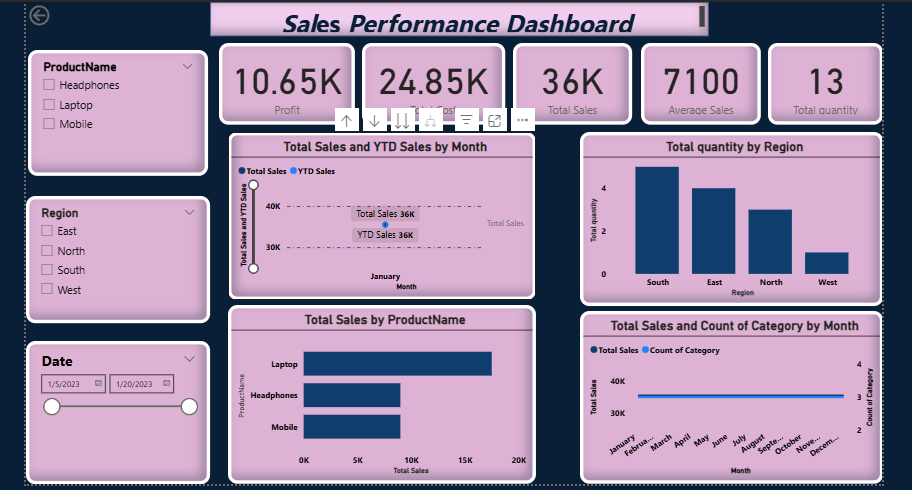

What the dashboard file says about the page in this screenshot:
{"tool":"powerbi","page":{"name":"Page 1","canvas":[1280,720],"ordinal":0},"visuals":[{"type":"card","fields":{"Values":["Sales-2.Total Sales"]},"box":[727.5,61.2,177.8,122.5],"z":0},{"type":"card","fields":{"Values":["Sales-2.Average Sales"]},"box":[918.7,61.2,179.3,122.5],"z":1000},{"type":"card","fields":{"Values":["Sales-2.Profit"]},"box":[288.3,61.2,203.2,122.5],"z":2000},{"type":"card","fields":{"Values":["Sales-2.Total Cost"]},"box":[501.9,61.2,213.6,122.5],"z":3000},{"type":"card","fields":{"Values":["Sales-2.Total quantity"]},"box":[1108.4,61.2,171.8,122.5],"z":4000},{"type":"lineChart","fields":{"Category":["Sales-2.OrderDate.Variation.Date Hierarchy.Year","Sales-2.OrderDate.Variation.Date Hierarchy.Quarter","Sales-2.OrderDate.Variation.Date Hierarchy.Month","Sales-2.OrderDate.Variation.Date Hierarchy.Day"],"Y":["Sales-2.Total Sales","Sales-2.YTD Sales"]},"box":[301.7,194.2,460.1,251],"z":5000},{"type":"clusteredBarChart","fields":{"Category":["Products-3.ProductName"],"Y":["Sales-2.Total Sales"]},"box":[301.7,452.6,460.1,267.4],"z":6000},{"type":"clusteredColumnChart","fields":{"Category":["Sales-2.Region"],"Y":["Sales-2.Total quantity"]},"box":[827.6,194.2,452.6,259.9],"z":7000},{"type":"slicer","fields":{"Values":["Date.Date"]},"box":[0,506.4,274.9,213.6],"z":8000},{"type":"slicer","fields":{"Values":["Products-3.ProductName"]},"box":[3,71.7,268.9,188.2],"z":9000},{"type":"slicer","fields":{"Values":["Sales-2.Region"]},"box":[0,289.8,274.9,189.7],"z":10000},{"type":"lineChart","fields":{"Category":["Date.Date.Variation.Date Hierarchy.Month"],"Y":["Sales-2.Total Sales"],"Y2":["CountNonNull(Products-3.Category)"]},"box":[827.6,461.6,452.6,258.4],"z":11000},{"type":"actionButton","box":[0,0,100,40],"z":12000},{"type":"textbox","box":[274.9,0,745.4,50.8],"z":13000}]}

Visuals, with their boxes in screenshot pixels (x1, y1, x2, y2):
card - Sales-2.Total Sales: bbox=[509, 41, 628, 123]
card - Sales-2.Average Sales: bbox=[637, 41, 757, 123]
card - Sales-2.Profit: bbox=[215, 41, 351, 123]
card - Sales-2.Total Cost: bbox=[358, 41, 501, 123]
card - Sales-2.Total quantity: bbox=[764, 41, 879, 123]
lineChart - Sales-2.OrderDate.Variation.Date Hierarchy.Year x Sales-2.OrderDate.Variation.Date Hierarchy.Quarter: bbox=[224, 130, 532, 298]
clusteredBarChart - Products-3.ProductName x Sales-2.Total Sales: bbox=[224, 303, 532, 482]
clusteredColumnChart - Sales-2.Region x Sales-2.Total quantity: bbox=[576, 130, 879, 304]
slicer - Date.Date: bbox=[21, 339, 206, 482]
slicer - Products-3.ProductName: bbox=[23, 48, 204, 174]
slicer - Sales-2.Region: bbox=[21, 194, 206, 321]
lineChart - Date.Date.Variation.Date Hierarchy.Month x Sales-2.Total Sales: bbox=[576, 309, 879, 482]
actionButton: bbox=[21, 0, 88, 27]
textbox: bbox=[206, 0, 705, 34]
